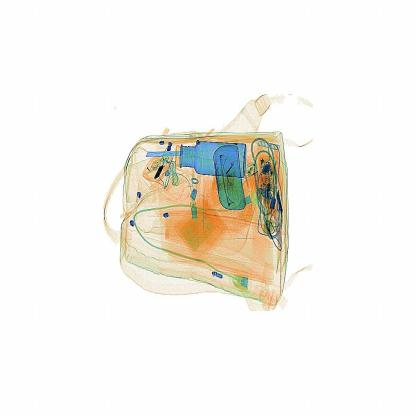pliers: (129, 144, 199, 166)
